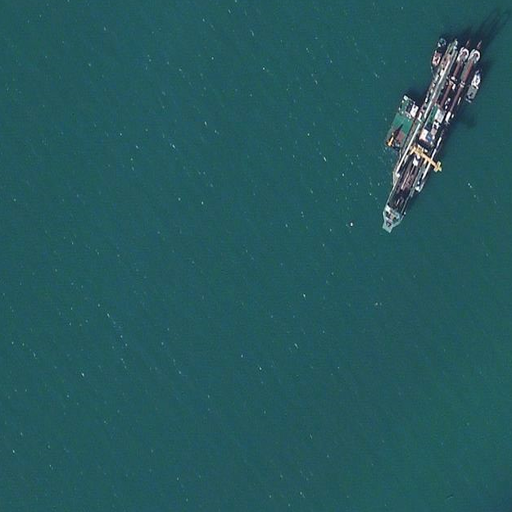ship: (378, 31, 484, 235)
